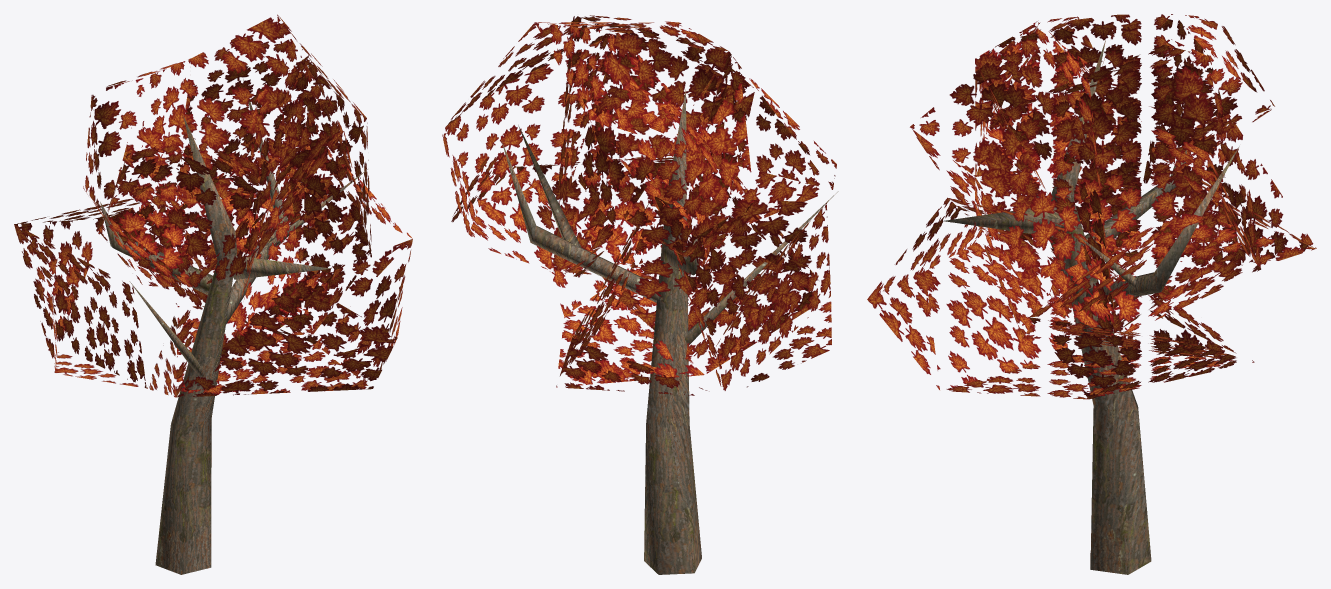
File: maple_tree.glb
3 views of the same model, side by side, from view 1: azimuth 30°, elevation 25°; view 2: azimuth 150°, elevation 25°; view 3: azimuth 270°, elevation 25° (orthographic). The views are drawn at different scales.
Parts seen in each view (by area): view 1: Circle.001; view 2: Circle.001; view 3: Circle.001.
Part boxes in pixels (<box>): Circle.001: <box>14,14,412,574</box>; Circle.001: <box>442,15,838,574</box>; Circle.001: <box>867,14,1316,574</box>.
Size of the model in its own units: 3.32 by 4.8 by 3.37.
Materials: 2 (2 with a texture image).
